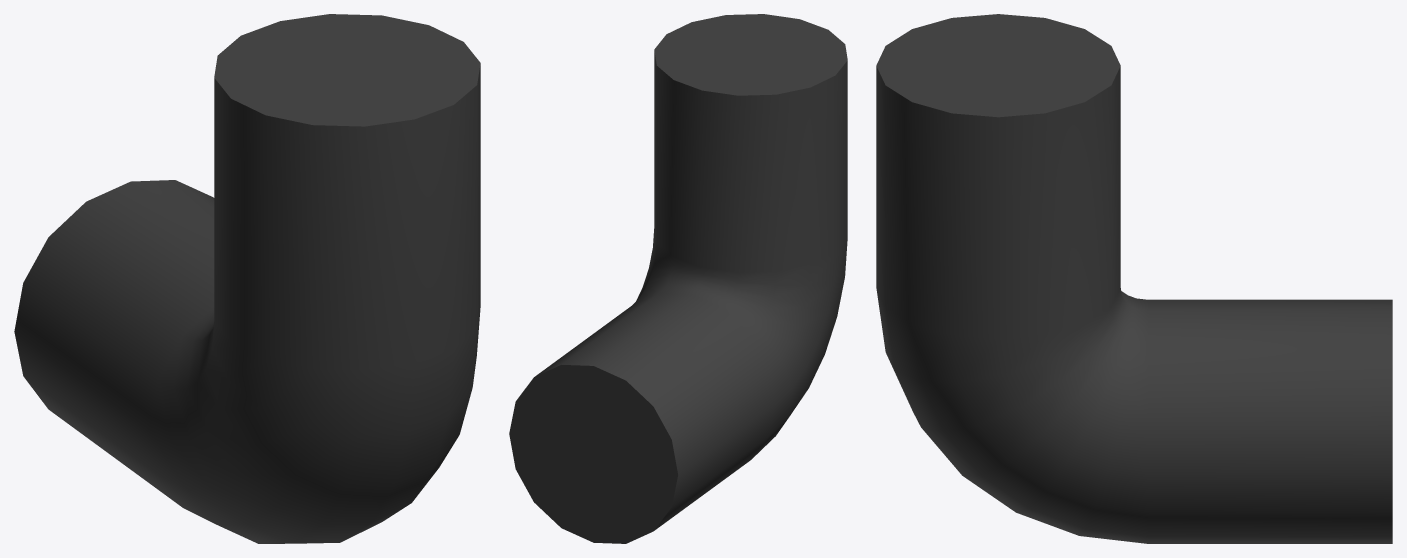
File: 90DPipe.fbx
The picture shows the model from 3 angles, left to right: view 1: azimuth 30°, elevation 25°; view 2: azimuth 150°, elevation 25°; view 3: azimuth 270°, elevation 25°; orthographic projection. The views are drawn at different scales.
Visible parts, largest first — view 1: Elbow Pipe; view 2: Elbow Pipe; view 3: Elbow Pipe.
Part boxes in pixels (<box>): Elbow Pipe: <box>14,14,480,543</box>; Elbow Pipe: <box>509,14,847,543</box>; Elbow Pipe: <box>876,14,1392,543</box>.
Size of the model in its own units: 200 by 422 by 423.
